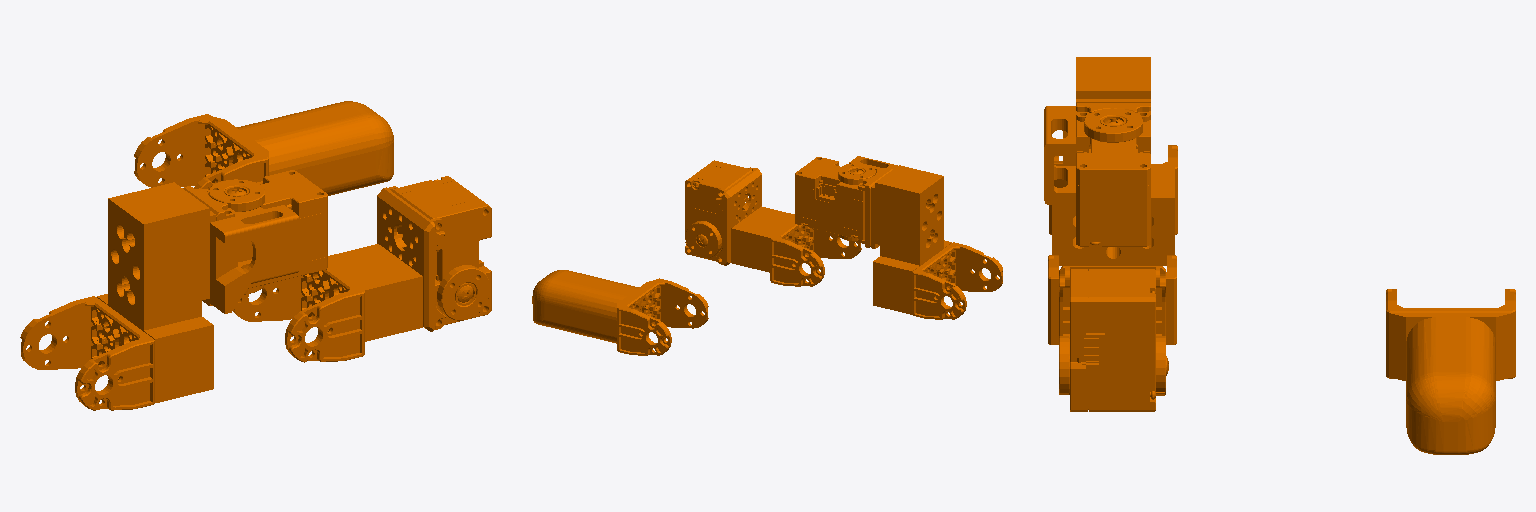
robot.urdf — onshape:
<robot name="onshape">
  <link name="palm_lower">
    <inertial>
      <origin xyz="0.0 0.0 0.0" rpy="0.0 -0.0 0.0"/>
      <mass value="0.237"/>
      <inertia ixx="0.000354094" ixy="-1.193e-06" ixz="-2.445e-06" iyy="0.000260915" iyz="-2.905e-06" izz="0.000529257"/>
    </inertial>
    <visual>
      <geometry>
        <mesh filename="../assets/leap/leap_hand/palm_lower.stl"/>
      </geometry>
      <origin xyz="-0.020095249652862544 0.025757756134899473 -0.034722403578460216" rpy="0.0 -0.0 0.0"/>
      <material name="palm_lower_material">
        <color rgba="0.6039215686274509 0.14901960784313725 0.14901960784313725 1.0"/>
      </material>
    </visual>
    <collision>
      <geometry>
        <mesh filename="../assets/leap/leap_hand/palm_lower.stl"/>
      </geometry>
      <origin xyz="-0.020095249652862544 0.025757756134899473 -0.034722403578460216" rpy="0.0 -0.0 0.0"/>
    </collision>
  </link>
  <link name="mcp_joint">
    <inertial>
      <origin xyz="0.0 0.0 0.0" rpy="0.0 -0.0 0.0"/>
      <mass value="0.044"/>
      <inertia ixx="1.1499e-05" ixy="3.049e-06" ixz="1.21e-07" iyy="7.796e-06" iyz="1.12e-07" izz="1.4759e-05"/>
    </inertial>
    <visual>
      <geometry>
        <mesh filename="../assets/leap/leap_hand/mcp_joint.stl"/>
      </geometry>
      <origin xyz="0.008406902261174496 0.0077662438597169954 0.014657354985032912" rpy="1.6375789613221e-15 -1.021047330249102e-30 1.7177968783327987e-31"/>
      <material name="mcp_joint_material">
        <color rgba="0.8666666666666667 0.8666666666666667 0.050980392156862744 1.0"/>
      </material>
    </visual>
    <collision>
      <geometry>
        <mesh filename="../assets/leap/leap_hand/mcp_joint.stl"/>
      </geometry>
      <origin xyz="0.008406902261174496 0.0077662438597169954 0.014657354985032912" rpy="1.6375789613221e-15 -1.021047330249102e-30 1.7177968783327987e-31"/>
    </collision>
  </link>
  <link name="pip">
    <inertial>
      <origin xyz="0.0 0.0 0.0" rpy="0.0 -0.0 0.0"/>
      <mass value="0.032"/>
      <inertia ixx="4.798e-06" ixy="1.2e-08" ixz="4e-09" iyy="2.862e-06" iyz="1.1e-08" izz="4.234e-06"/>
    </inertial>
    <visual>
      <geometry>
        <mesh filename="../assets/leap/leap_hand/pip.stl"/>
      </geometry>
      <origin xyz="0.009643363092271328 0.0002999999999999895 0.0007840340104173765" rpy="-1.5707963267948966 -1.5707963267948963 0.0"/>
      <material name="pip_material">
        <color rgba="0.7490196078431373 0.7490196078431373 0.7490196078431373 1.0"/>
      </material>
    </visual>
    <collision>
      <geometry>
        <mesh filename="../assets/leap/leap_hand/pip.stl"/>
      </geometry>
      <origin xyz="0.009643363092271328 0.0002999999999999895 0.0007840340104173765" rpy="-1.5707963267948966 -1.5707963267948963 0.0"/>
    </collision>
  </link>
  <link name="dip">
    <inertial>
      <origin xyz="0.0 0.0 0.0" rpy="0.0 -0.0 0.0"/>
      <mass value="0.037"/>
      <inertia ixx="5.542e-06" ixy="-6.07e-07" ixz="-1.7e-08" iyy="5.727e-06" iyz="-2.3e-08" izz="6.682e-06"/>
    </inertial>
    <visual>
      <geometry>
        <mesh filename="../assets/leap/leap_hand/dip.stl"/>
      </geometry>
      <origin xyz="0.021133352895225003 -0.00843211914670488 0.00978508816209524" rpy="-3.141592653589793 4.507511124216441e-32 4.439548105392361e-32"/>
      <material name="dip_material">
        <color rgba="0.8666666666666667 0.8666666666666667 0.050980392156862744 1.0"/>
      </material>
    </visual>
    <collision>
      <geometry>
        <mesh filename="../assets/leap/leap_hand/dip.stl"/>
      </geometry>
      <origin xyz="0.021133352895225003 -0.00843211914670488 0.00978508816209524" rpy="-3.141592653589793 4.507511124216441e-32 4.439548105392361e-32"/>
    </collision>
  </link>
  <link name="fingertip_long">
    <inertial>
      <origin xyz="0.0 0.0 0.0" rpy="0.0 -0.0 0.0"/>
      <mass value="0.016"/>
      <inertia ixx="3.368e-06" ixy="1.15e-07" ixz="0.0" iyy="1.556e-06" iyz="0.0" izz="2.863e-06"/>
    </inertial>
    <visual>
      <geometry>
        <mesh filename="custom_models/fingertip_long.stl"/>
      </geometry>
      <origin xyz="0.013286424108533503 -0.006114238386541987 0.014499999999999498" rpy="3.141592653589793 1.1993117970061735e-33 4.439548105392361e-32"/>
      <material name="fingertip_material">
        <color rgba="0.878 0.467 0.0 1.0"/>
      </material>
    </visual>
    <collision>
      <geometry>
        <mesh filename="custom_models/fingertip_long.stl"/>
      </geometry>
      <origin xyz="0.013286424108533503 -0.006114238386541987 0.014499999999999498" rpy="3.141592653589793 1.1993117970061735e-33 4.439548105392361e-32"/>
    </collision>
  </link>
  <link name="pip_4">
    <inertial>
      <origin xyz="0.0 0.0 0.0" rpy="0.0 -0.0 0.0"/>
      <mass value="0.032"/>
      <inertia ixx="4.798e-06" ixy="1.2e-08" ixz="4e-09" iyy="2.862e-06" iyz="1.1e-08" izz="4.234e-06"/>
    </inertial>
    <visual>
      <geometry>
        <mesh filename="../assets/leap/leap_hand/pip.stl"/>
      </geometry>
      <origin xyz="-0.005356636907728671 0.0002999999999999999 0.0007840340104173782" rpy="-1.5707963267948966 -1.5707963267948963 0.0"/>
      <material name="pip_material">
        <color rgba="0.7490196078431373 0.7490196078431373 0.7490196078431373 1.0"/>
      </material>
    </visual>
    <collision>
      <geometry>
        <mesh filename="../assets/leap/leap_hand/pip.stl"/>
      </geometry>
      <origin xyz="-0.005356636907728671 0.0002999999999999999 0.0007840340104173782" rpy="-1.5707963267948966 -1.5707963267948963 0.0"/>
    </collision>
  </link>
  <link name="thumb_pip">
    <inertial>
      <origin xyz="0.0 0.0 0.0" rpy="0.0 -0.0 0.0"/>
      <mass value="0.003"/>
      <inertia ixx="5.93e-07" ixy="0.0" ixz="0.0" iyy="5.49e-07" iyz="0.0" izz="2.24e-07"/>
    </inertial>
    <visual>
      <geometry>
        <mesh filename="../assets/leap/leap_hand/thumb_pip.stl"/>
      </geometry>
      <origin xyz="0.011961920770611187 -5.30825383648903e-16 -0.0158526489566642" rpy="1.5707963267948966 1.6050198443300153e-46 -3.9204996250525193e-59"/>
      <material name="thumb_pip_material">
        <color rgba="0.8666666666666667 0.8666666666666667 0.050980392156862744 1.0"/>
      </material>
    </visual>
    <collision>
      <geometry>
        <mesh filename="../assets/leap/leap_hand/thumb_pip.stl"/>
      </geometry>
      <origin xyz="0.011961920770611187 -5.30825383648903e-16 -0.0158526489566642" rpy="1.5707963267948966 1.6050198443300153e-46 -3.9204996250525193e-59"/>
    </collision>
  </link>
  <link name="thumb_dip">
    <inertial>
      <origin xyz="0.0 0.0 0.0" rpy="0.0 -0.0 0.0"/>
      <mass value="0.038"/>
      <inertia ixx="8.474e-06" ixy="2.41e-07" ixz="2.6e-08" iyy="3.841e-06" iyz="2.5e-08" izz="7.679e-06"/>
    </inertial>
    <visual>
      <geometry>
        <mesh filename="../assets/leap/leap_hand/thumb_dip.stl"/>
      </geometry>
      <origin xyz="0.043968715707239175 0.0579529529737092 -0.008628676449369476" rpy="1.94289029309401e-16 3.27515792264422e-15 1.112375852965736e-46"/>
      <material name="thumb_dip_material">
        <color rgba="0.8666666666666667 0.8666666666666667 0.050980392156862744 1.0"/>
      </material>
    </visual>
    <collision>
      <geometry>
        <mesh filename="../assets/leap/leap_hand/thumb_dip.stl"/>
      </geometry>
      <origin xyz="0.043968715707239175 0.0579529529737092 -0.008628676449369476" rpy="1.94289029309401e-16 3.27515792264422e-15 1.112375852965736e-46"/>
    </collision>
  </link>
  <link name="thumb_fingertip">
    <inertial>
      <origin xyz="0.0 0.0 0.0" rpy="0.0 -0.0 0.0"/>
      <mass value="0.049"/>
      <inertia ixx="2.0372e-05" ixy="-4.89e-07" ixz="-3e-08" iyy="4.336e-06" iyz="-9.7e-08" izz="1.9845e-05"/>
    </inertial>
    <visual>
      <geometry>
        <mesh filename="../assets/leap/leap_hand/thumb_fingertip.stl"/>
      </geometry>
      <origin xyz="0.06255953846266739 0.07845968291139699 0.048992911807332215" rpy="4.379057701015637e-47 -3.33066907387547e-16 1.2042408677791935e-46"/>
      <material name="thumb_fingertip_material">
        <color rgba="0.6039215686274509 0.14901960784313725 0.14901960784313725 1.0"/>
      </material>
    </visual>
    <collision>
      <geometry>
        <mesh filename="../assets/leap/leap_hand/thumb_fingertip.stl"/>
      </geometry>
      <origin xyz="0.06255953846266739 0.07845968291139699 0.048992911807332215" rpy="4.379057701015637e-47 -3.33066907387547e-16 1.2042408677791935e-46"/>
    </collision>
  </link>
  <link name="mcp_joint_2">
    <inertial>
      <origin xyz="0.0 0.0 0.0" rpy="0.0 -0.0 0.0"/>
      <mass value="0.044"/>
      <inertia ixx="1.1499e-05" ixy="3.049e-06" ixz="1.21e-07" iyy="7.796e-06" iyz="1.12e-07" izz="1.4759e-05"/>
    </inertial>
    <visual>
      <geometry>
        <mesh filename="../assets/leap/leap_hand/mcp_joint.stl"/>
      </geometry>
      <origin xyz="0.008406902261174496 0.0077662438597169954 0.014657354985032914" rpy="1.6375789613221e-15 -1.0076465469034e-30 2.1209300131419907e-61"/>
      <material name="mcp_joint_material">
        <color rgba="0.8666666666666667 0.8666666666666667 0.050980392156862744 1.0"/>
      </material>
    </visual>
    <collision>
      <geometry>
        <mesh filename="../assets/leap/leap_hand/mcp_joint.stl"/>
      </geometry>
      <origin xyz="0.008406902261174496 0.0077662438597169954 0.014657354985032914" rpy="1.6375789613221e-15 -1.0076465469034e-30 2.1209300131419907e-61"/>
    </collision>
  </link>
  <link name="pip_2">
    <inertial>
      <origin xyz="0.0 0.0 0.0" rpy="0.0 -0.0 0.0"/>
      <mass value="0.032"/>
      <inertia ixx="4.798e-06" ixy="1.2e-08" ixz="4e-09" iyy="2.862e-06" iyz="1.1e-08" izz="4.234e-06"/>
    </inertial>
    <visual>
      <geometry>
        <mesh filename="../assets/leap/leap_hand/pip.stl"/>
      </geometry>
      <origin xyz="0.009643363092271328 0.0002999999999999947 0.0007840340104173765" rpy="-1.5707963267948966 -1.5707963267948963 0.0"/>
      <material name="pip_material">
        <color rgba="0.7490196078431373 0.7490196078431373 0.7490196078431373 1.0"/>
      </material>
    </visual>
    <collision>
      <geometry>
        <mesh filename="../assets/leap/leap_hand/pip.stl"/>
      </geometry>
      <origin xyz="0.009643363092271328 0.0002999999999999947 0.0007840340104173765" rpy="-1.5707963267948966 -1.5707963267948963 0.0"/>
    </collision>
  </link>
  <link name="dip_2">
    <inertial>
      <origin xyz="0.0 0.0 0.0" rpy="0.0 -0.0 0.0"/>
      <mass value="0.037"/>
      <inertia ixx="5.542e-06" ixy="-6.07e-07" ixz="-1.7e-08" iyy="5.727e-06" iyz="-2.3e-08" izz="6.682e-06"/>
    </inertial>
    <visual>
      <geometry>
        <mesh filename="../assets/leap/leap_hand/dip.stl"/>
      </geometry>
      <origin xyz="0.021133352895225003 -0.008432119146704865 0.009785088162095237" rpy="-3.141592653589793 2.1146933785271956e-32 1.4408183216511869e-31"/>
      <material name="dip_material">
        <color rgba="0.8666666666666667 0.8666666666666667 0.050980392156862744 1.0"/>
      </material>
    </visual>
    <collision>
      <geometry>
        <mesh filename="../assets/leap/leap_hand/dip.stl"/>
      </geometry>
      <origin xyz="0.021133352895225003 -0.008432119146704865 0.009785088162095237" rpy="-3.141592653589793 2.1146933785271956e-32 1.4408183216511869e-31"/>
    </collision>
  </link>
  <link name="fingertip_2">
    <inertial>
      <origin xyz="0.0 0.0 0.0" rpy="0.0 -0.0 0.0"/>
      <mass value="0.016"/>
      <inertia ixx="3.368e-06" ixy="1.15e-07" ixz="0.0" iyy="1.556e-06" iyz="0.0" izz="2.863e-06"/>
    </inertial>
    <visual>
      <geometry>
        <mesh filename="../assets/leap/leap_hand/fingertip.stl"/>
      </geometry>
      <origin xyz="0.013286424108533496 -0.006114238386542001 0.014499999999999496" rpy="3.141592653589793 -4.317959788283594e-33 1.4408183216511869e-31"/>
      <material name="fingertip_material">
        <color rgba="0.8666666666666667 0.8666666666666667 0.050980392156862744 1.0"/>
      </material>
    </visual>
    <collision>
      <geometry>
        <mesh filename="../assets/leap/leap_hand/fingertip.stl"/>
      </geometry>
      <origin xyz="0.013286424108533496 -0.006114238386542001 0.014499999999999496" rpy="3.141592653589793 -4.317959788283594e-33 1.4408183216511869e-31"/>
    </collision>
  </link>
  <link name="mcp_joint_3_long">
    <inertial>
      <origin xyz="0.0 0.0 0.0" rpy="0.0 -0.0 0.0"/>
      <mass value="0.044"/>
      <inertia ixx="1.1499e-05" ixy="3.049e-06" ixz="1.21e-07" iyy="7.796e-06" iyz="1.12e-07" izz="1.4759e-05"/>
    </inertial>
    <visual>
      <geometry>
        <mesh filename="custom_models/mcp_joint_long.stl"/>
      </geometry>
      <origin xyz="0.0084069022611745 0.007766243859716996 0.014657354985032914" rpy="1.6375789613221e-15 -1.0059504988632627e-30 5.729641584552035e-32"/>
      <material name="mcp_joint_material">
        <color rgba="0.878 0.467 0.0 1.0"/>
      </material>
    </visual>
    <collision>
      <geometry>
        <mesh filename="custom_models/mcp_joint_long.stl"/>
      </geometry>
      <origin xyz="0.0084069022611745 0.007766243859716996 0.014657354985032914" rpy="1.6375789613221e-15 -1.0059504988632627e-30 5.729641584552035e-32"/>
    </collision>
  </link>
  <link name="pip_3">
    <inertial>
      <origin xyz="0.0 0.0 0.0" rpy="0.0 -0.0 0.0"/>
      <mass value="0.032"/>
      <inertia ixx="4.798e-06" ixy="1.2e-08" ixz="4e-09" iyy="2.862e-06" iyz="1.1e-08" izz="4.234e-06"/>
    </inertial>
    <visual>
      <geometry>
        <mesh filename="../assets/leap/leap_hand/pip.stl"/>
      </geometry>
      <origin xyz="0.009643363092271331 0.00029999999999998084 0.0007840340104173765" rpy="-1.5707963267948966 -1.5707963267948963 0.0"/>
      <material name="pip_material">
        <color rgba="0.7490196078431373 0.7490196078431373 0.7490196078431373 1.0"/>
      </material>
    </visual>
    <collision>
      <geometry>
        <mesh filename="../assets/leap/leap_hand/pip.stl"/>
      </geometry>
      <origin xyz="0.009643363092271331 0.00029999999999998084 0.0007840340104173765" rpy="-1.5707963267948966 -1.5707963267948963 0.0"/>
    </collision>
  </link>
  <link name="dip_3_long">
    <inertial>
      <origin xyz="0.0 0.0 0.0" rpy="0.0 -0.0 0.0"/>
      <mass value="0.037"/>
      <inertia ixx="5.542e-06" ixy="-6.07e-07" ixz="-1.7e-08" iyy="5.727e-06" iyz="-2.3e-08" izz="6.682e-06"/>
    </inertial>
    <visual>
      <geometry>
        <mesh filename="custom_models/dip_long.stl"/>
      </geometry>
      <origin xyz="0.021133352895225006 -0.008432119146704865 0.009785088162095237" rpy="-3.141592653589793 -1.4095651113919093e-33 1.5565411607615035e-32"/>
      <material name="dip_material">
        <color rgba="0.878 0.467 0.0 1.0"/>
      </material>
    </visual>
    <collision>
      <geometry>
        <mesh filename="custom_models/dip_long.stl"/>
      </geometry>
      <origin xyz="0.021133352895225006 -0.008432119146704865 0.009785088162095237" rpy="-3.141592653589793 -1.4095651113919093e-33 1.5565411607615035e-32"/>
    </collision>
  </link>
  <link name="fingertip_3">
    <inertial>
      <origin xyz="0.0 0.0 0.0" rpy="0.0 -0.0 0.0"/>
      <mass value="0.016"/>
      <inertia ixx="3.368e-06" ixy="1.15e-07" ixz="0.0" iyy="1.556e-06" iyz="0.0" izz="2.863e-06"/>
    </inertial>
    <visual>
      <geometry>
        <mesh filename="../assets/leap/leap_hand/fingertip.stl"/>
      </geometry>
      <origin xyz="0.013286424108533501 -0.006114238386541987 0.0144999999999995" rpy="3.141592653589793 8.61707169505754e-33 1.5565411607615035e-32"/>
      <material name="fingertip_material">
        <color rgba="0.8666666666666667 0.8666666666666667 0.050980392156862744 1.0"/>
      </material>
    </visual>
    <collision>
      <geometry>
        <mesh filename="../assets/leap/leap_hand/fingertip.stl"/>
      </geometry>
      <origin xyz="0.013286424108533501 -0.006114238386541987 0.0144999999999995" rpy="3.141592653589793 8.61707169505754e-33 1.5565411607615035e-32"/>
    </collision>
  </link>
  <joint name="1" type="revolute">
    <parent link="palm_lower"/>
    <child link="mcp_joint"/>
    <origin xyz="-0.007095249652862546 0.023057756134899472 -0.01872240357846022" rpy="1.570796326794895 1.5707963267948946 0.0"/>
    <axis xyz="0.0 0.0 -1.0"/>
    <limit effort="0.95" velocity="8.48" lower="-0.314" upper="2.23"/>
  </joint>
  <joint name="0" type="revolute">
    <parent link="mcp_joint"/>
    <child link="pip"/>
    <origin xyz="-0.012200000000000008 0.038099999999999995 0.0145" rpy="-1.5707963267948966 -1.0065212660796337e-15 1.5707963267948943"/>
    <axis xyz="0.0 0.0 -1.0"/>
    <limit effort="0.95" velocity="8.48" lower="-1.047" upper="1.047"/>
  </joint>
  <joint name="2" type="revolute">
    <parent link="pip"/>
    <child link="dip"/>
    <origin xyz="0.014999999999999968 0.014299999999999905 -0.012999999999999824" rpy="1.570796326794896 -1.5707963267948963 0.0"/>
    <axis xyz="0.0 0.0 -1.0"/>
    <limit effort="0.95" velocity="8.48" lower="-0.506" upper="1.885"/>
  </joint>
  <joint name="3" type="revolute">
    <parent link="dip"/>
    <child link="fingertip_long"/>
    <origin xyz="-4.088058249557269e-09 -0.03610000421036737 0.0002000000000000786" rpy="4.5935029425113685e-17 -2.8730071914463795e-16 4.439548105392361e-32"/>
    <axis xyz="0.0 0.0 -1.0"/>
    <limit effort="0.95" velocity="8.48" lower="-0.366" upper="2.042"/>
  </joint>
  <joint name="12" type="revolute">
    <parent link="palm_lower"/>
    <child link="pip_4"/>
    <origin xyz="-0.06939524965286253 -0.0012422438651005258 -0.021622403578460216" rpy="-8.238176646493942e-17 1.5707963267948957 0.0"/>
    <axis xyz="0.0 0.0 -1.0"/>
    <limit effort="0.95" velocity="8.48" lower="-0.349" upper="2.094"/>
  </joint>
  <joint name="13" type="revolute">
    <parent link="pip_4"/>
    <child link="thumb_pip"/>
    <origin xyz="-2.7755575615628914e-17 0.014300000000000005 -0.013000000000000012" rpy="1.570796326794896 -1.5707963267948963 0.0"/>
    <axis xyz="0.0 0.0 -1.0"/>
    <limit effort="0.95" velocity="8.48" lower="-0.47" upper="2.443"/>
  </joint>
  <joint name="14" type="revolute">
    <parent link="thumb_pip"/>
    <child link="thumb_dip"/>
    <origin xyz="0.0 0.014499999999999966 -0.017000000000000053" rpy="-1.5707963267948966 1.6050198443300131e-46 -1.9721522630516625e-31"/>
    <axis xyz="0.0 0.0 -1.0"/>
    <limit effort="0.95" velocity="8.48" lower="-1.2" upper="1.9"/>
  </joint>
  <joint name="15" type="revolute">
    <parent link="thumb_dip"/>
    <child link="thumb_fingertip"/>
    <origin xyz="-1.249000902703301e-16 0.046599999999999864 0.0001999999999999771" rpy="1.506395849149178e-44 5.423418723393526e-31 3.141592653589793"/>
    <axis xyz="0.0 0.0 -1.0"/>
    <limit effort="0.95" velocity="8.48" lower="-1.34" upper="1.88"/>
  </joint>
  <joint name="5" type="revolute">
    <parent link="palm_lower"/>
    <child link="mcp_joint_2"/>
    <origin xyz="-0.007095249652862546 -0.022392243865100525 -0.01872240357846022" rpy="1.570796326794895 1.5707963267948946 0.0"/>
    <axis xyz="0.0 0.0 -1.0"/>
    <limit effort="0.95" velocity="8.48" lower="-0.314" upper="2.23"/>
  </joint>
  <joint name="4" type="revolute">
    <parent link="mcp_joint_2"/>
    <child link="pip_2"/>
    <origin xyz="-0.012200000000000008 0.038099999999999995 0.0145" rpy="-1.5707963267948966 -1.0065212660796337e-15 1.5707963267948943"/>
    <axis xyz="0.0 0.0 -1.0"/>
    <limit effort="0.95" velocity="8.48" lower="-1.047" upper="1.047"/>
  </joint>
  <joint name="6" type="revolute">
    <parent link="pip_2"/>
    <child link="dip_2"/>
    <origin xyz="0.014999999999999968 0.014299999999999905 -0.012999999999999824" rpy="1.570796326794896 -1.5707963267948963 0.0"/>
    <axis xyz="0.0 0.0 -1.0"/>
    <limit effort="0.95" velocity="8.48" lower="-0.506" upper="1.885"/>
  </joint>
  <joint name="7" type="revolute">
    <parent link="dip_2"/>
    <child link="fingertip_2"/>
    <origin xyz="-4.088058249557269e-09 -0.03610000421036737 0.0002000000000000786" rpy="4.5935029425113685e-17 -2.8730071914463795e-16 4.439548105392361e-32"/>
    <axis xyz="0.0 0.0 -1.0"/>
    <limit effort="0.95" velocity="8.48" lower="-0.366" upper="2.042"/>
  </joint>
  <joint name="9" type="revolute">
    <parent link="palm_lower"/>
    <child link="mcp_joint_3_long"/>
    <origin xyz="-0.007095249652862546 -0.06784224386510052 -0.01872240357846022" rpy="1.570796326794895 1.5707963267948946 0.0"/>
    <axis xyz="0.0 0.0 -1.0"/>
    <limit effort="0.95" velocity="8.48" lower="-0.314" upper="2.23"/>
  </joint>
  <joint name="8" type="revolute">
    <parent link="mcp_joint_3_long"/>
    <child link="pip_3"/>
    <origin xyz="-0.012200000000000007713 0.053099999999999994982 0.014500000000000000736" rpy="-1.5707963267948966 -1.0065212660796337e-15 1.5707963267948943"/>
    <axis xyz="0.0 0.0 -1.0"/>
    <limit effort="0.95" velocity="8.48" lower="-1.047" upper="1.047"/>
  </joint>
  <joint name="10" type="revolute">
    <parent link="pip_3"/>
    <child link="dip_3_long"/>
    <origin xyz="0.014999999999999968 0.014299999999999905 -0.012999999999999824" rpy="1.570796326794896 -1.5707963267948963 0.0"/>
    <axis xyz="0.0 0.0 -1.0"/>
    <limit effort="0.95" velocity="8.48" lower="-0.506" upper="1.885"/>
  </joint>
  <joint name="11" type="revolute">
    <parent link="dip_3_long"/>
    <child link="fingertip_3"/>
    <origin xyz="-4.0880582495572692636e-09 -0.051100004210367367397 0.00020000000000007858714" rpy="4.5935029425113685e-17 -2.8730071914463795e-16 4.439548105392361e-32"/>
    <axis xyz="0.0 0.0 -1.0"/>
    <limit effort="0.95" velocity="8.48" lower="-0.366" upper="2.042"/>
  </joint>
</robot>

--- What the picture shows (computed from the rendered views, not written in the file) ---
The picture shows the robot from 3 angles, left to right: view 1: azimuth 30°, elevation 25°; view 2: azimuth 150°, elevation 25°; view 3: azimuth 270°, elevation 25°; orthographic projection.
Robot: onshape — 17 links, 16 joints (16 revolute); root link palm_lower; default pose: every joint at zero.
Links seen in each view (by area): view 1: mcp_joint_3_long, dip_3_long, fingertip_long; view 2: mcp_joint_3_long, dip_3_long, fingertip_long; view 3: mcp_joint_3_long, dip_3_long, fingertip_long.
Boxes of the visible links, x1=… form: mcp_joint_3_long: x1=20, y1=170, x2=327, y2=410; dip_3_long: x1=233, y1=176, x2=491, y2=362; fingertip_long: x1=134, y1=101, x2=393, y2=195; mcp_joint_3_long: x1=795, y1=156, x2=1002, y2=319; dip_3_long: x1=685, y1=160, x2=861, y2=286; fingertip_long: x1=532, y1=270, x2=708, y2=355; mcp_joint_3_long: x1=1044, y1=57, x2=1177, y2=265; dip_3_long: x1=1048, y1=255, x2=1176, y2=411; fingertip_long: x1=1386, y1=289, x2=1515, y2=454.
Bounding box of the posed robot: 0.1616 × 0.1263 × 0.0549 m (x, y, z).
Meshes: 11 distinct files referenced, 3 mesh visuals loaded (3 binary STL); not drawn: 14 (reference not matched to a file when rendering).